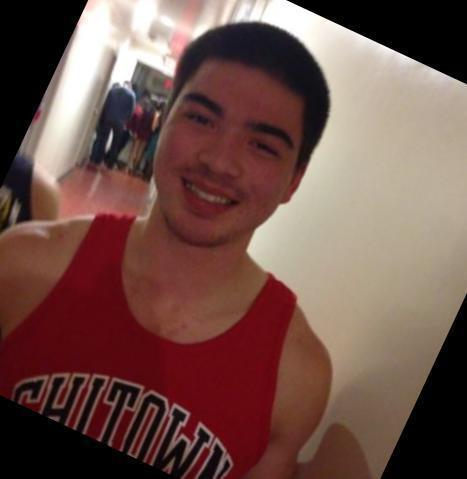Drunk: (165, 64, 291, 242)
